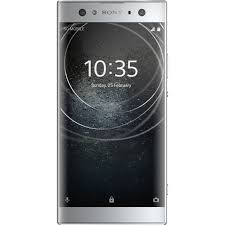sony: (54, 1, 167, 223)
